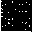sudoku: (1, 1, 32, 32)
